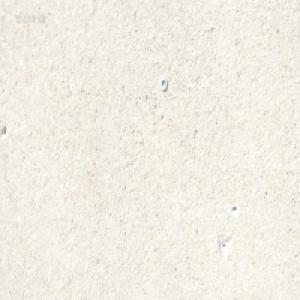Washer: (159, 77, 167, 91)
